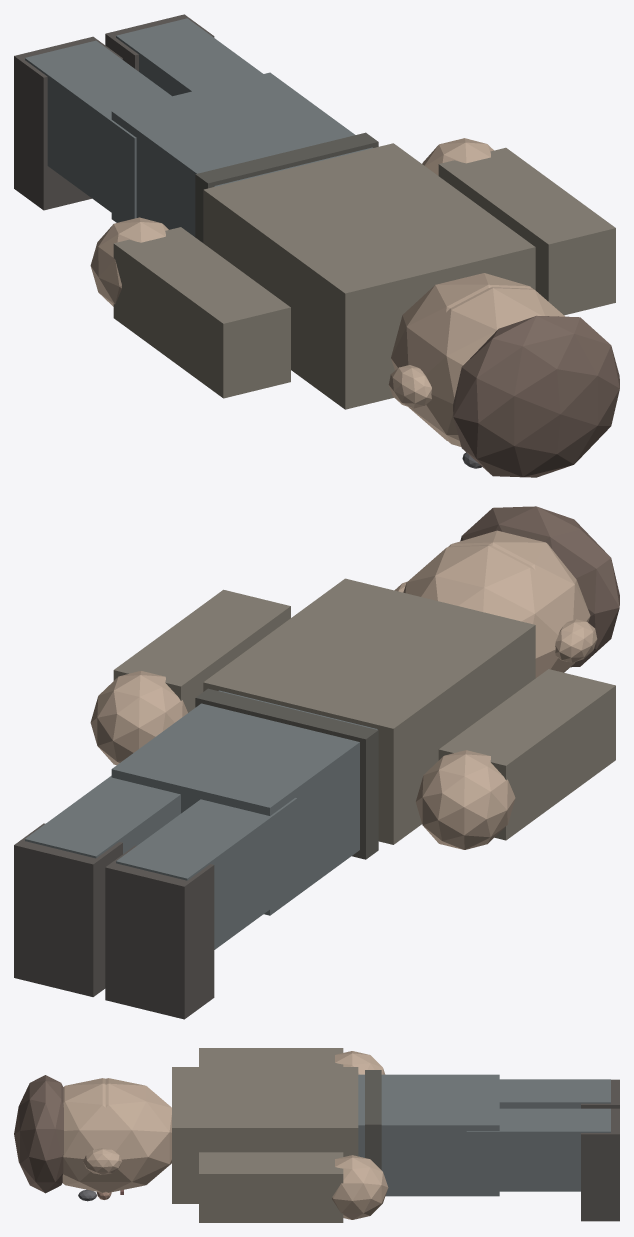
Rendered from hair_male_short.glb.
3 renders of one model, top to bottom at view 1: azimuth 30°, elevation 25°; view 2: azimuth 150°, elevation 25°; view 3: azimuth 270°, elevation 25°, orthographic. The views are drawn at different scales.
Visible parts, largest first — view 1: part_00, part_19, part_06, part_01, part_12, part_04, part_02, part_10, part_05, part_03, part_18, part_07 (+3 smaller); view 2: part_00, part_01, part_06, part_05, part_04, part_11, part_12, part_03, part_07, part_10, part_19, part_13 (+3 smaller); view 3: part_00, part_01, part_12, part_10, part_03, part_02, part_19, part_11, part_04, part_06, part_13, part_18 (+3 smaller).
Boxes of the visible parts, <box> form: part_00: <box>203,143,535,409</box>; part_19: <box>453,315,619,477</box>; part_06: <box>113,227,290,398</box>; part_01: <box>111,72,372,236</box>; part_12: <box>438,147,615,315</box>; part_04: <box>25,40,171,221</box>; part_02: <box>411,287,564,446</box>; part_10: <box>116,18,262,96</box>; part_05: <box>14,36,122,210</box>; part_03: <box>391,273,532,440</box>; part_18: <box>195,132,378,242</box>; part_07: <box>90,217,168,306</box>; part_00: <box>203,578,535,844</box>; part_01: <box>111,690,377,915</box>; part_06: <box>438,669,615,840</box>; part_05: <box>105,845,214,1019</box>; part_04: <box>116,798,297,949</box>; part_11: <box>14,823,122,996</box>; part_12: <box>113,589,290,712</box>; part_03: <box>403,545,560,677</box>; part_07: <box>416,750,515,849</box>; part_10: <box>25,775,180,858</box>; part_19: <box>460,506,619,667</box>; part_13: <box>90,671,187,765</box>; part_00: <box>172,1067,358,1203</box>; part_01: <box>358,1074,499,1196</box>; part_12: <box>199,1152,343,1222</box>; part_10: <box>466,1108,610,1191</box>; part_03: <box>86,1078,171,1192</box>; part_02: <box>62,1078,125,1192</box>; part_19: <box>14,1075,63,1193</box>; part_11: <box>581,1108,619,1221</box>; part_04: <box>499,1079,610,1108</box>; part_06: <box>199,1048,343,1066</box>; part_13: <box>332,1155,388,1219</box>; part_18: <box>365,1070,381,1169</box>.
Size of the model in its own units: 1.03 by 0.435 by 2.02.
